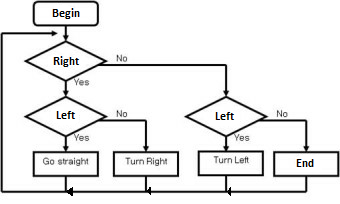arrow: (1, 29, 68, 194), (98, 62, 229, 97), (95, 119, 150, 151), (227, 174, 308, 195), (260, 118, 310, 152), (147, 175, 228, 195), (66, 176, 149, 194), (62, 133, 72, 153), (62, 80, 70, 97), (62, 24, 69, 43)
decision: (23, 40, 109, 82), (183, 96, 269, 138), (22, 96, 109, 137)
process: (196, 149, 266, 177), (112, 150, 180, 178), (32, 150, 100, 178), (272, 150, 340, 178), (31, 1, 100, 27)
text: (125, 156, 170, 167), (42, 157, 89, 167), (213, 155, 250, 166), (51, 7, 82, 19), (52, 56, 80, 68), (55, 110, 76, 122), (214, 110, 235, 121), (295, 158, 315, 169), (73, 78, 92, 87), (233, 133, 251, 142), (73, 133, 90, 142), (274, 109, 289, 119), (115, 108, 128, 118), (116, 54, 127, 63)
